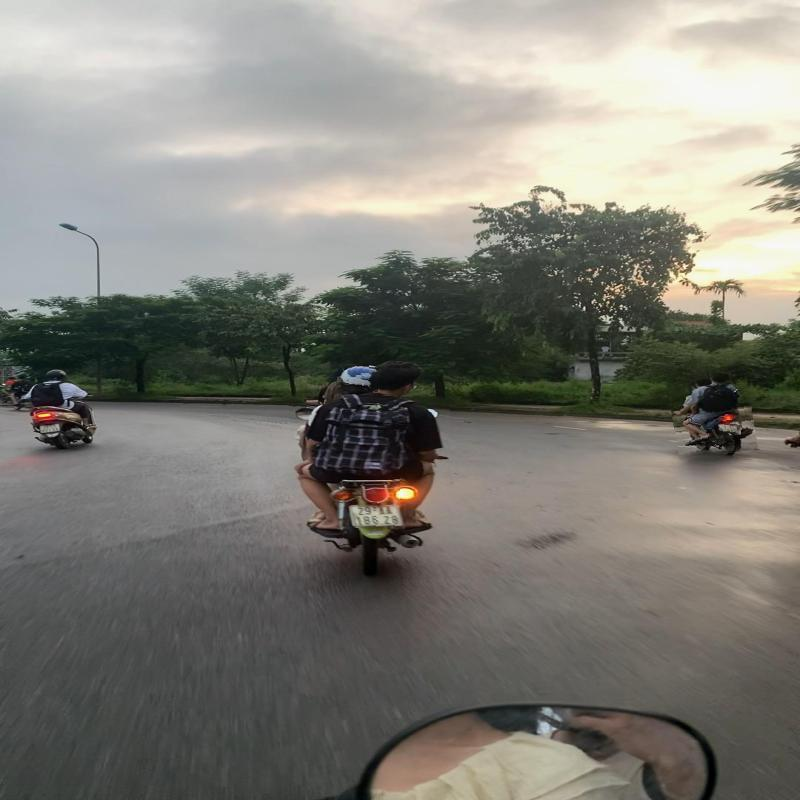helmet: (337, 364, 381, 390)
licenseplate: (347, 502, 407, 530), (718, 424, 742, 434)
motorcyclist: (290, 358, 452, 580), (669, 367, 755, 459)
nohelmet: (369, 360, 423, 396), (710, 370, 732, 384), (694, 378, 712, 388)
